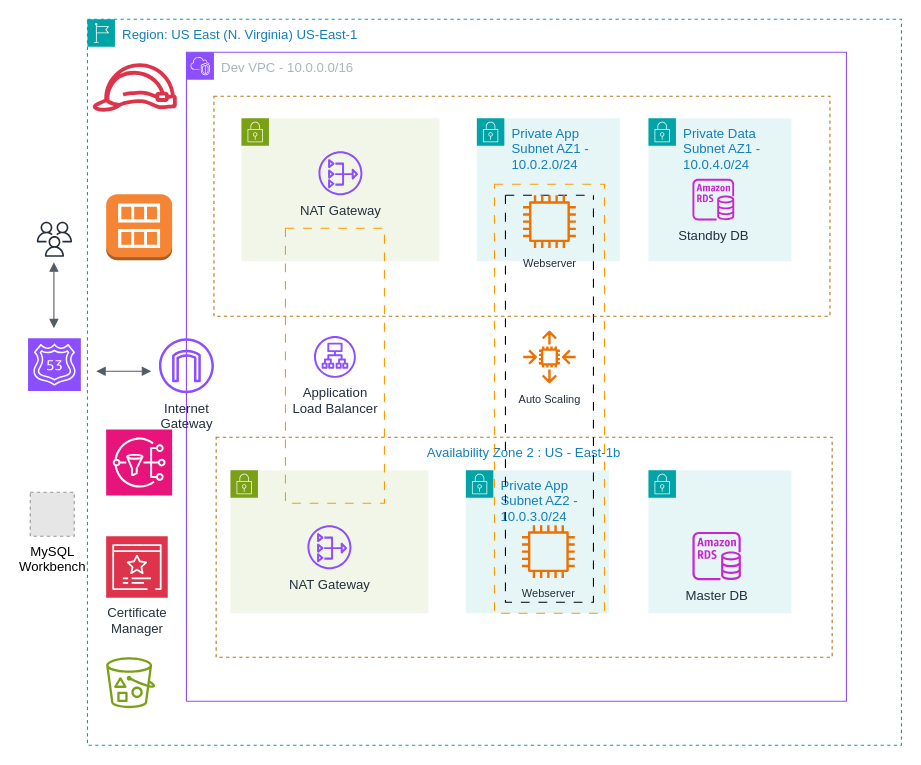
The diagram is 921 pixels wide and 765 high, and some of its shapes have lost their labels. Grey dashed boxes stand in for pictures. Here are the shapes that lost their labels. From the top down, the box of each, then its label:
(91, 63, 177, 111): IAM Role with S3 policy
(240, 117, 439, 261): Public Subnet AZ1 - 10.0.0.0/24
(213, 95, 830, 316): Availability Zone 1 : US - East-1a
(105, 193, 172, 260): AMI
(27, 337, 81, 391): Amazon Route 53
(105, 428, 172, 496): SNS
(229, 469, 428, 613): Public Subnet AZ2 - 10.0.1.0/24
(647, 469, 791, 613): Private Data Subnet AZ2 - 10.0.5.0/24
(106, 657, 155, 708): AWS S3
